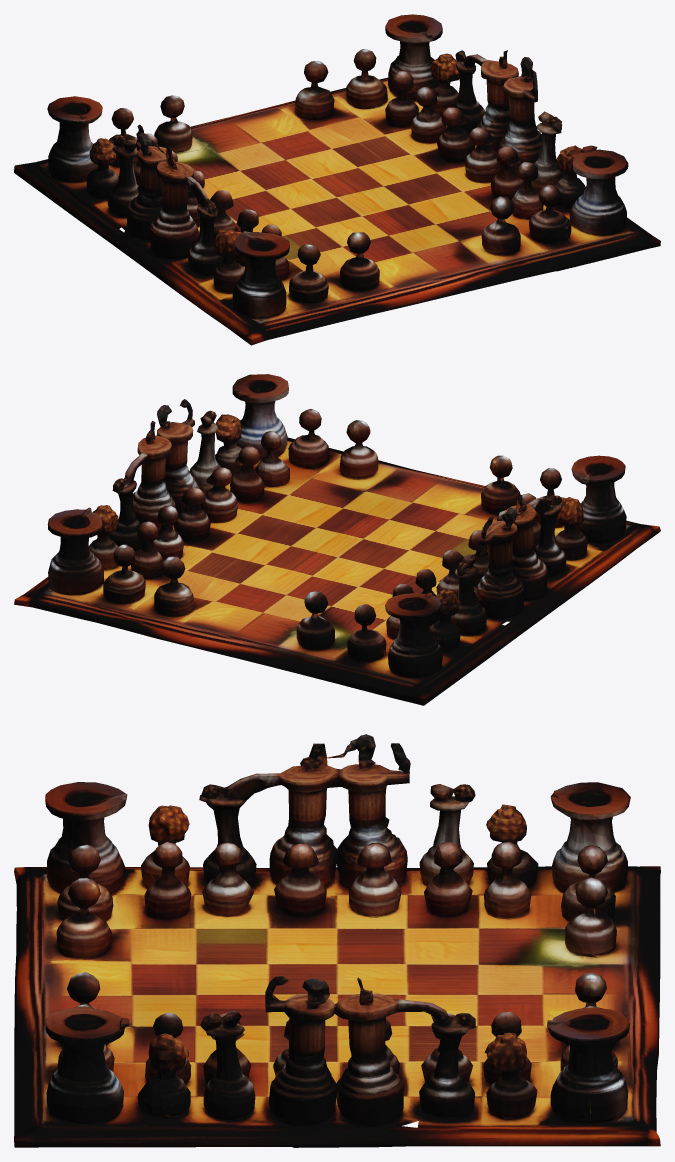
File: wooden-checkers-set-art-deco.jpeg.glb
3 views of the same model, one above another, from view 1: azimuth 30°, elevation 25°; view 2: azimuth 150°, elevation 25°; view 3: azimuth 270°, elevation 25° (orthographic). The views are drawn at different scales.
Visible parts, largest first — view 1: world; view 2: world; view 3: world.
Boxes of the visible parts, x1,y1,x2,y2 form: world: (14,14,660,345); world: (14,374,660,705); world: (14,734,660,1147).
Size of the model in its own units: 1 by 0.2649 by 1.
1 material, 1 textured.
